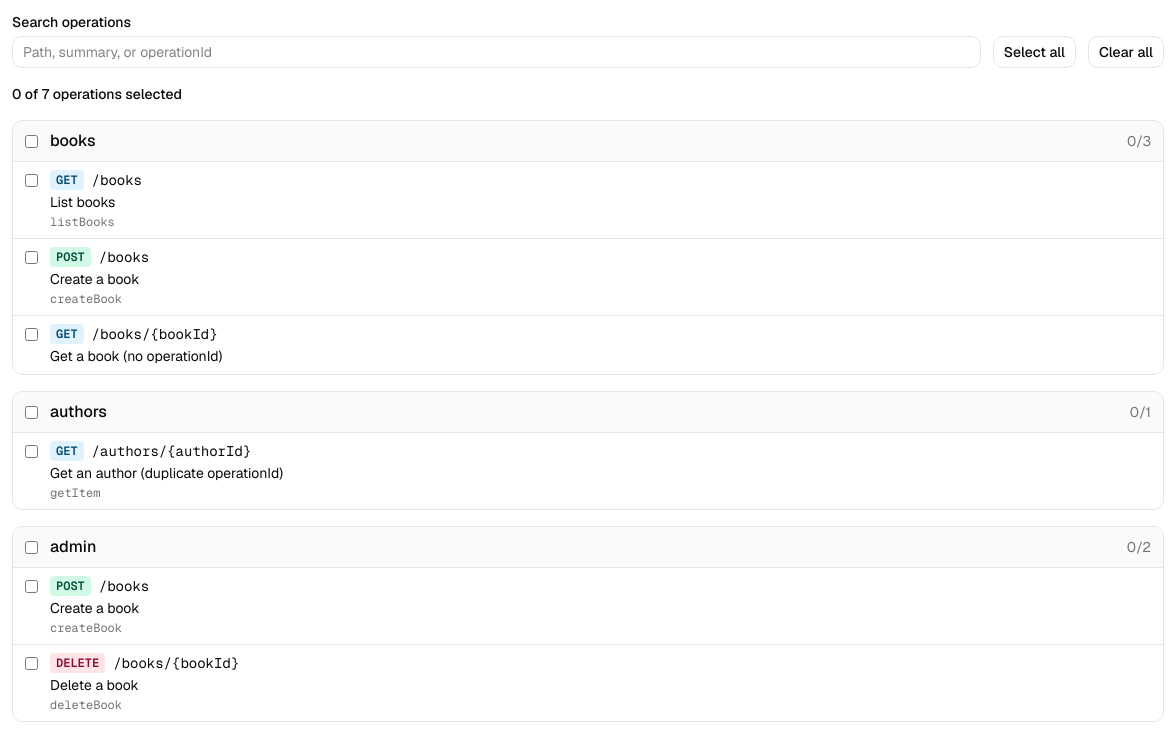
OperationSelector › selects a multi-tag operation in every group and counts it once
Click the checkbox labelled "post /books Create a book createBook" below "listBooks": (32, 258) [25,251,38,264]
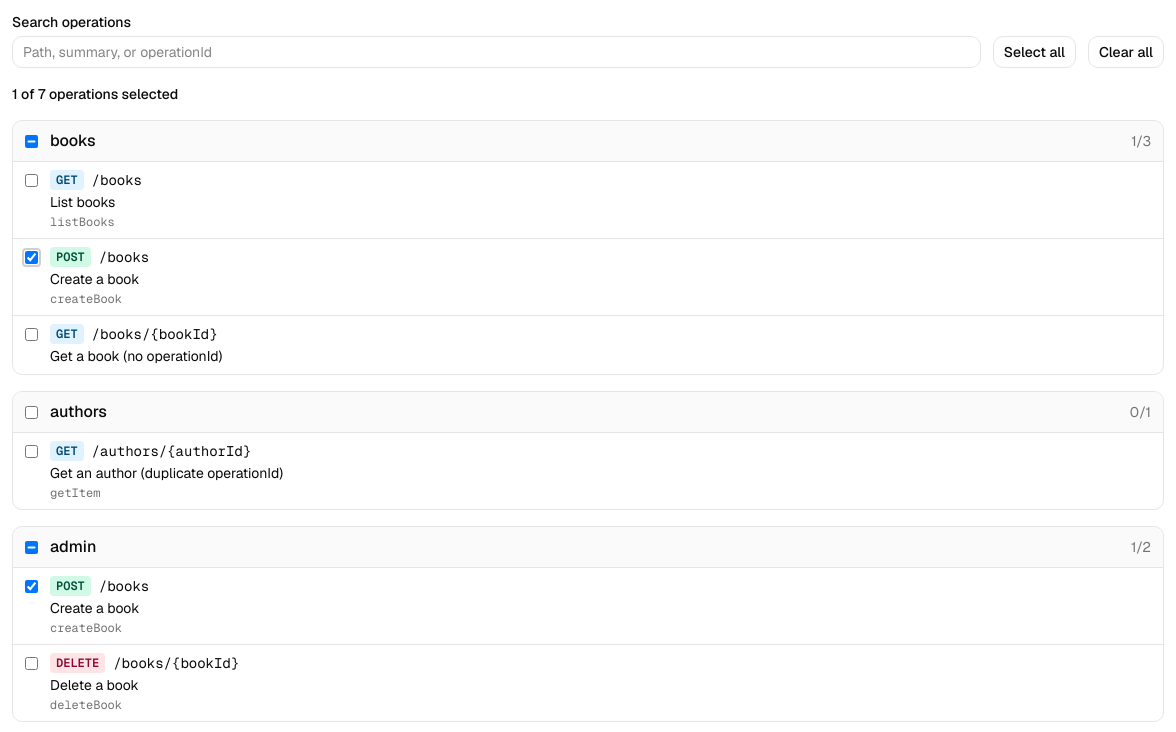
Check: the message reads "1 of 7 operations selected", box [12,85,178,103]
